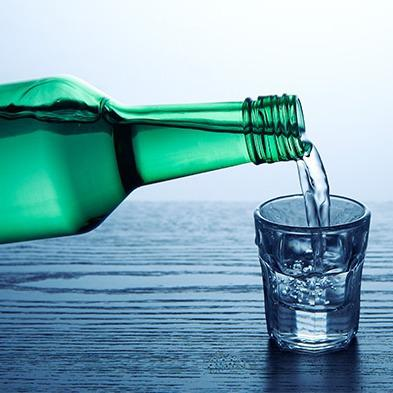soju: (2, 75, 310, 248)
